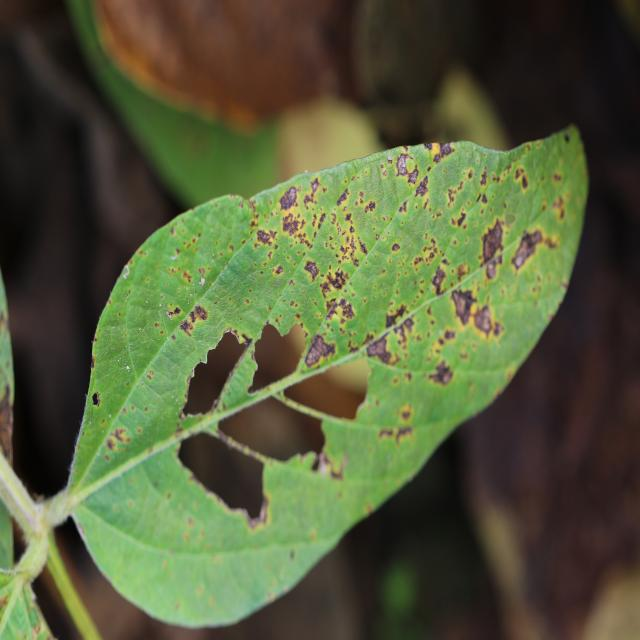Bacterial_Blight: (361, 300, 422, 371), (103, 379, 157, 456), (448, 284, 504, 342), (168, 302, 225, 343), (510, 227, 546, 273), (331, 228, 365, 270), (410, 234, 443, 275), (479, 217, 505, 267), (309, 449, 346, 480), (305, 332, 337, 367), (322, 296, 356, 328), (393, 150, 421, 187), (321, 265, 351, 296), (379, 422, 415, 446), (244, 497, 270, 530), (366, 334, 392, 365), (0, 396, 13, 458), (105, 427, 132, 456), (281, 211, 307, 239), (445, 175, 467, 207), (427, 360, 453, 386), (303, 178, 323, 208), (385, 303, 409, 328), (431, 142, 456, 164), (278, 185, 298, 211), (431, 264, 448, 294), (163, 301, 183, 323), (303, 260, 321, 282), (514, 165, 529, 191), (551, 195, 566, 220), (256, 228, 276, 246), (192, 304, 210, 322), (397, 403, 413, 422), (179, 318, 195, 335), (336, 187, 349, 206), (457, 262, 469, 282), (114, 428, 128, 442), (196, 266, 208, 282), (479, 166, 488, 187), (456, 211, 467, 228), (248, 198, 258, 215), (181, 269, 193, 283), (364, 200, 376, 214), (91, 391, 101, 407), (398, 199, 408, 214), (106, 438, 116, 452), (274, 264, 284, 276), (175, 424, 184, 436), (552, 172, 562, 182), (391, 243, 400, 253), (165, 309, 174, 319), (289, 549, 296, 561), (178, 410, 186, 420), (91, 355, 96, 370), (146, 371, 154, 380), (345, 212, 352, 221), (165, 491, 172, 500), (381, 167, 387, 177), (564, 133, 570, 142), (295, 312, 301, 320), (375, 233, 380, 240), (171, 334, 176, 340)
Soybean: (0, 127, 588, 640)
